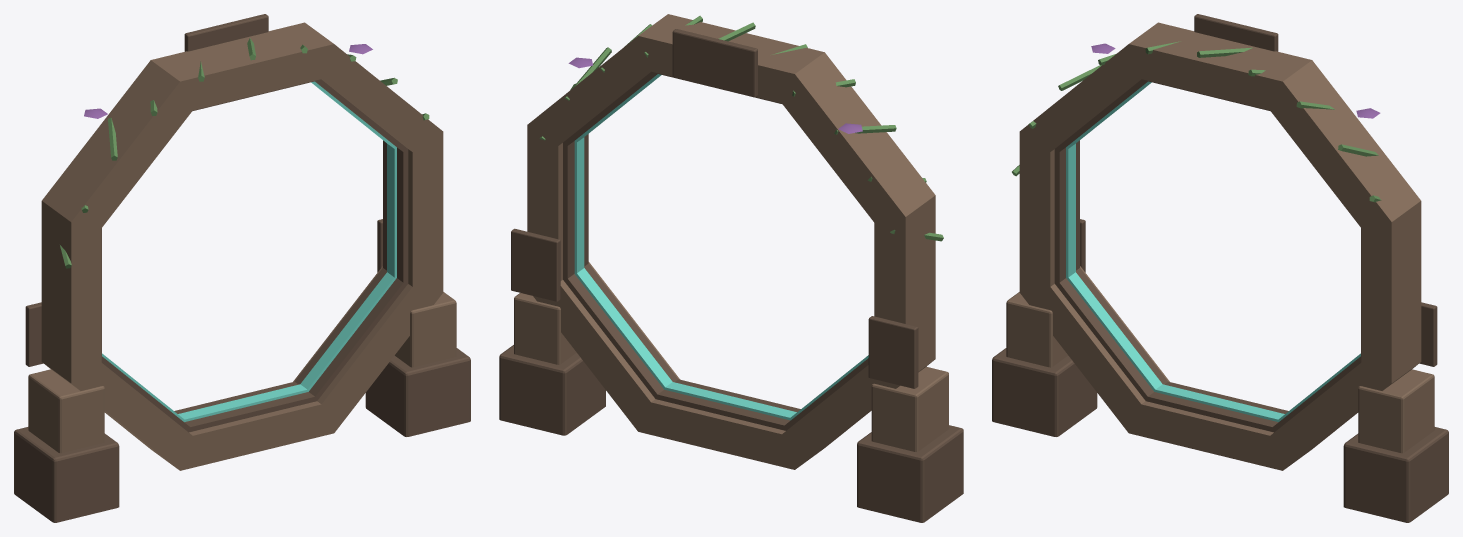
File: rn2-floresta-portal.glb
3 views of the same model, side by side, from view 1: azimuth 30°, elevation 25°; view 2: azimuth 150°, elevation 25°; view 3: azimuth 330°, elevation 25° (orthographic).
Visible parts, largest first — view 1: rn2_floresta_portal_body, rn2_floresta_portal_glow; view 2: rn2_floresta_portal_body, rn2_floresta_portal_glow; view 3: rn2_floresta_portal_body, rn2_floresta_portal_glow.
Boxes of the visible parts, x1,y1,x2,y2 form: rn2_floresta_portal_body: (14,14,470,522); rn2_floresta_portal_glow: (102,81,396,422); rn2_floresta_portal_body: (499,14,963,522); rn2_floresta_portal_glow: (574,74,868,420); rn2_floresta_portal_body: (992,14,1448,522); rn2_floresta_portal_glow: (1066,81,1360,422).
Size of the model in its own units: 16.4 by 15.8 by 2.83.
